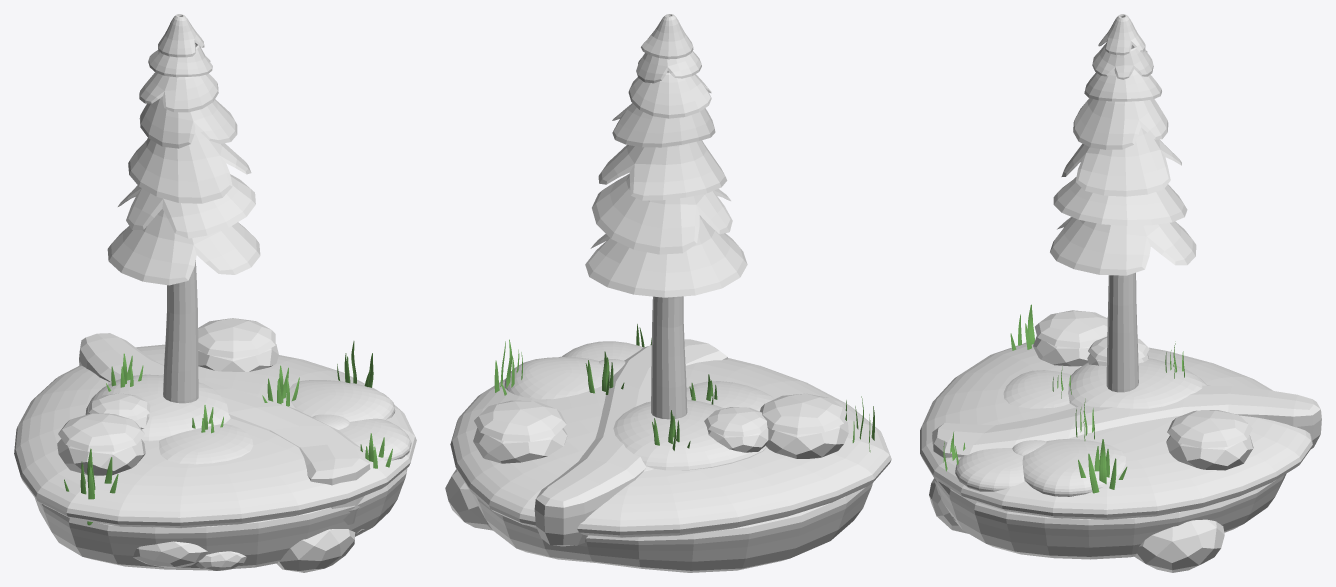
Rendered from ILES_TEST.fbx.
3 renders of one model, left to right at view 1: azimuth 30°, elevation 25°; view 2: azimuth 150°, elevation 25°; view 3: azimuth 270°, elevation 25°, orthographic. The views are drawn at different scales.
Visible parts, largest first — view 1: ile; view 2: ile; view 3: ile.
Boxes of the visible parts, x1=… form: ile: x1=14, y1=14, x2=416, y2=572; ile: x1=445, y1=14, x2=891, y2=572; ile: x1=920, y1=14, x2=1321, y2=572.
Size of the model in its own units: 1496 by 1990 by 1482.
